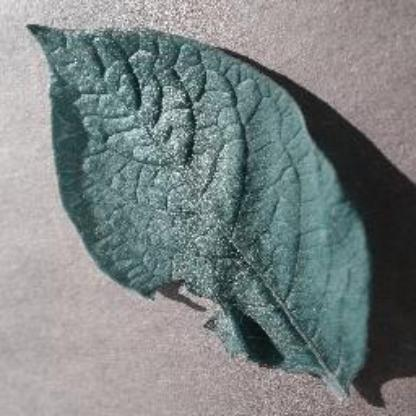Healthy-plant: (27, 6, 383, 408)
